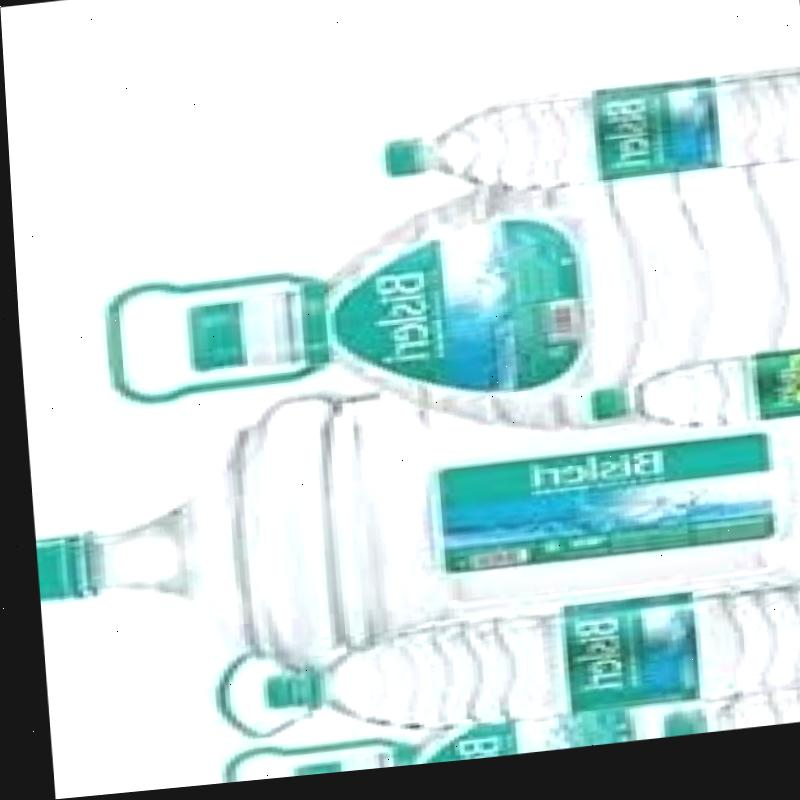botella: (248, 593, 800, 751), (378, 81, 800, 214), (581, 359, 800, 450)
